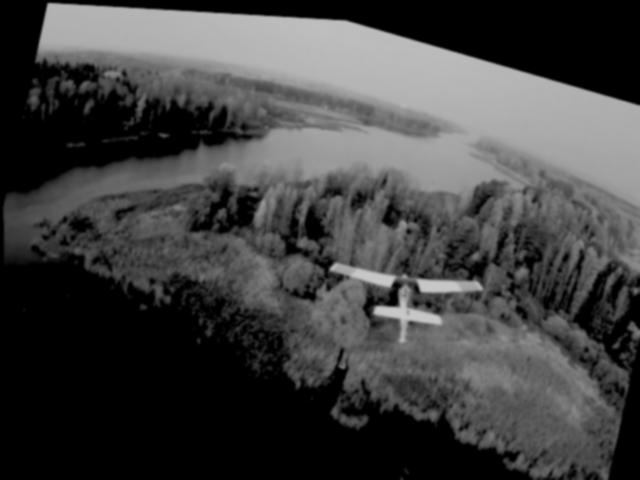hedef: (316, 229, 485, 362)
